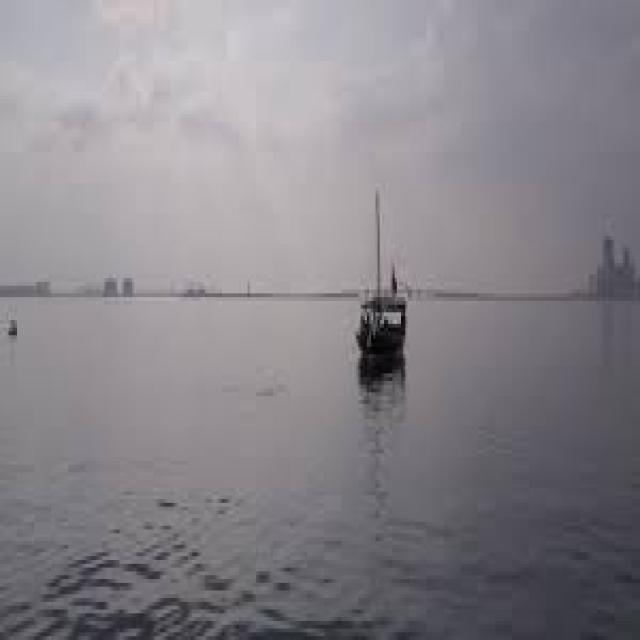fishing boat: (346, 168, 405, 371)
